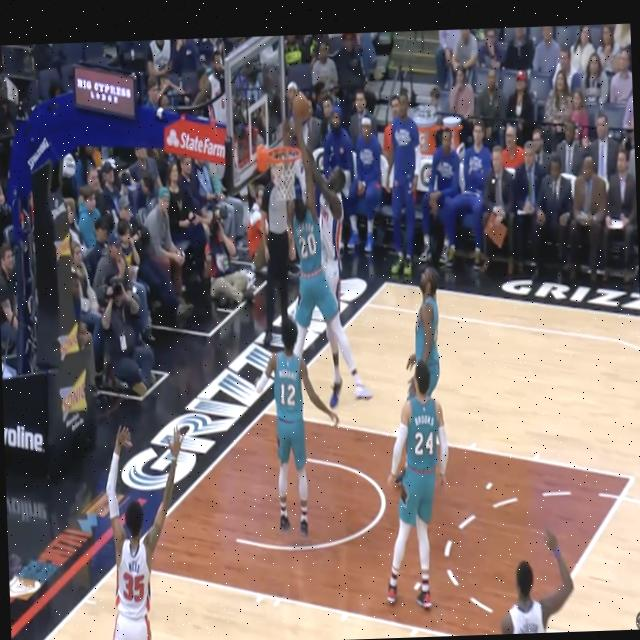foul: (273, 99, 373, 423)
no foul: (255, 309, 328, 558)
